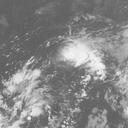cyclone: (56, 35, 102, 70)
